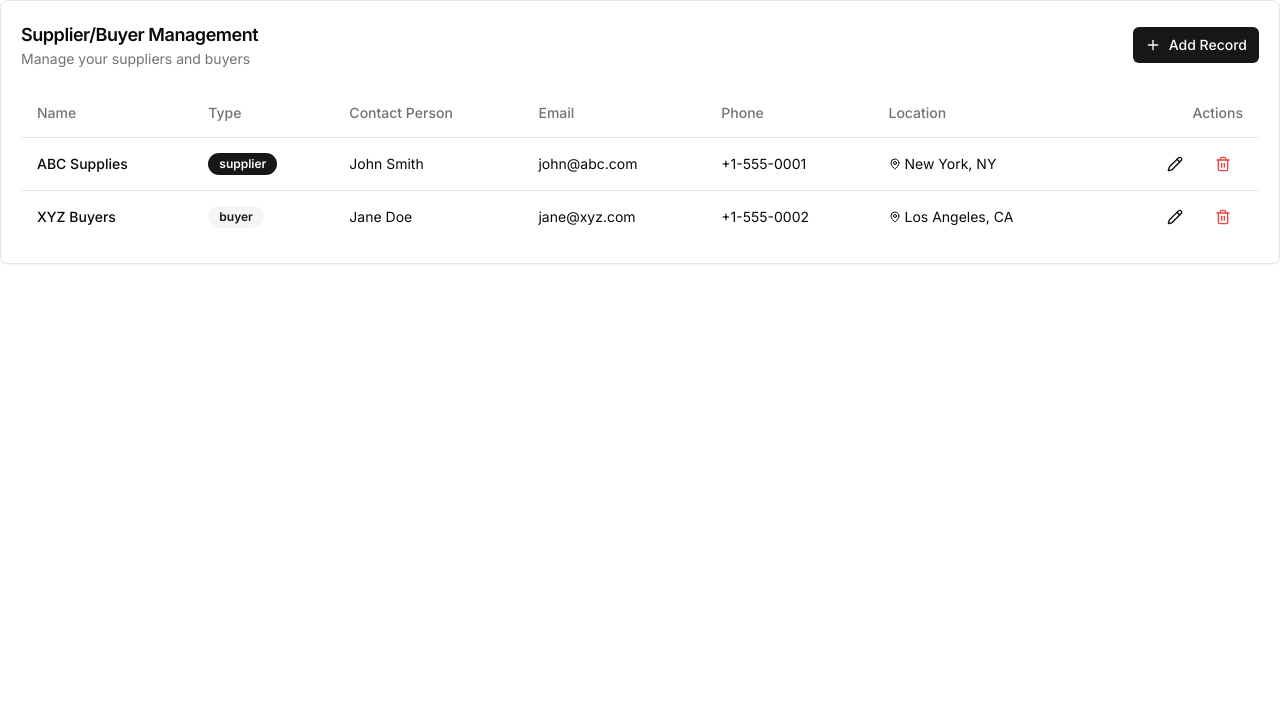
Test: SupplierBuyerManagement Component › opens dialog to add new supplier/buyer
Expected: the text "ABC Supplies" is shown, 21,137 -> 192,190
Click the button "Add Record" at x=1196, y=45, box 1133,27 -> 1259,63
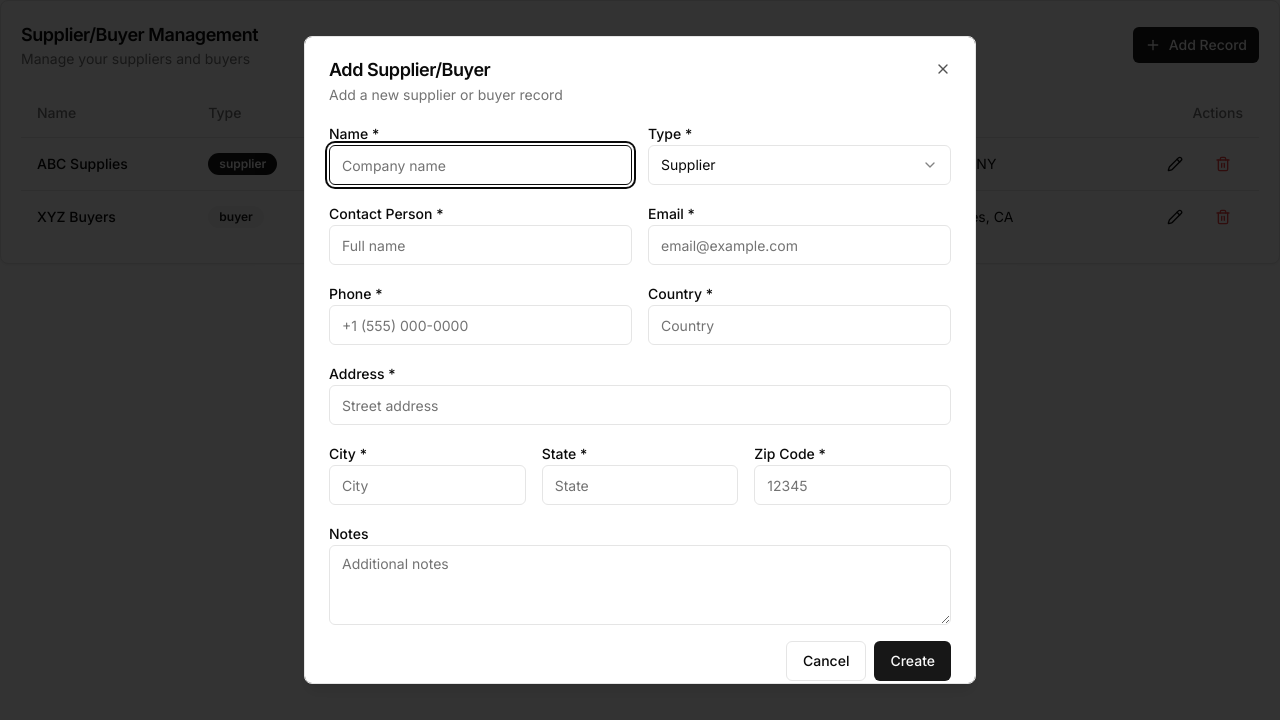
Expected: the heading "Add Supplier/Buyer" is shown, 329,59 -> 490,80
